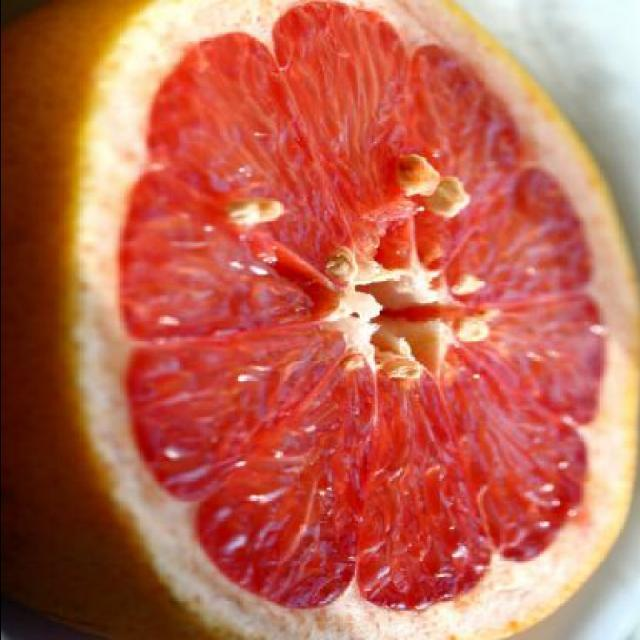Orange: (27, 41, 607, 640)
